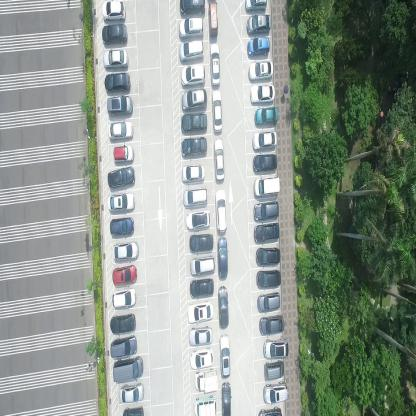car: (113, 355, 144, 384), (180, 86, 207, 112), (253, 172, 281, 197), (180, 134, 208, 158), (111, 334, 139, 358), (178, 38, 204, 63), (195, 366, 220, 392), (106, 94, 134, 117), (107, 166, 136, 188), (178, 15, 204, 39), (254, 219, 281, 242), (107, 119, 134, 142), (262, 337, 289, 360), (262, 381, 289, 404), (187, 300, 214, 323), (112, 239, 140, 261), (190, 347, 216, 370), (181, 112, 208, 134), (110, 312, 137, 334), (102, 48, 129, 70), (215, 187, 228, 232), (248, 58, 273, 81), (180, 63, 205, 86), (246, 12, 271, 35), (249, 82, 275, 104), (183, 185, 209, 207), (185, 208, 211, 230), (104, 72, 130, 94), (189, 254, 215, 276), (112, 264, 139, 285), (101, 23, 128, 44), (107, 192, 135, 212), (209, 40, 221, 86), (219, 333, 231, 379), (252, 128, 277, 150), (259, 313, 284, 335), (101, 0, 126, 22), (254, 198, 280, 219), (211, 88, 223, 133), (254, 104, 278, 126), (218, 284, 230, 328), (257, 291, 281, 313), (193, 394, 217, 416), (188, 325, 213, 346), (252, 151, 278, 171), (182, 161, 206, 182), (189, 232, 214, 252), (110, 216, 135, 236), (120, 382, 145, 402), (256, 244, 282, 263), (256, 269, 282, 288), (189, 278, 215, 297), (214, 136, 225, 180), (247, 35, 270, 56), (113, 288, 137, 308), (218, 235, 229, 278), (264, 360, 285, 381), (113, 143, 135, 163), (179, 0, 205, 15), (208, 0, 218, 38), (221, 381, 231, 415), (245, 0, 267, 12), (257, 405, 283, 415), (121, 405, 144, 415)
